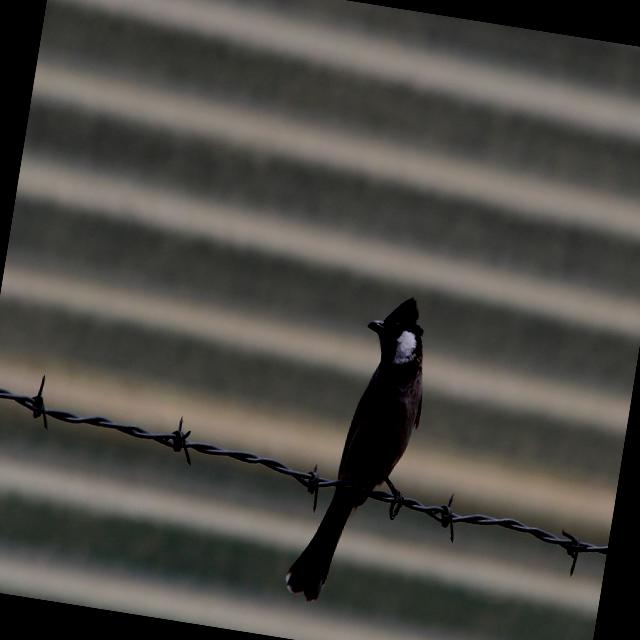bird: (274, 276, 440, 616)
